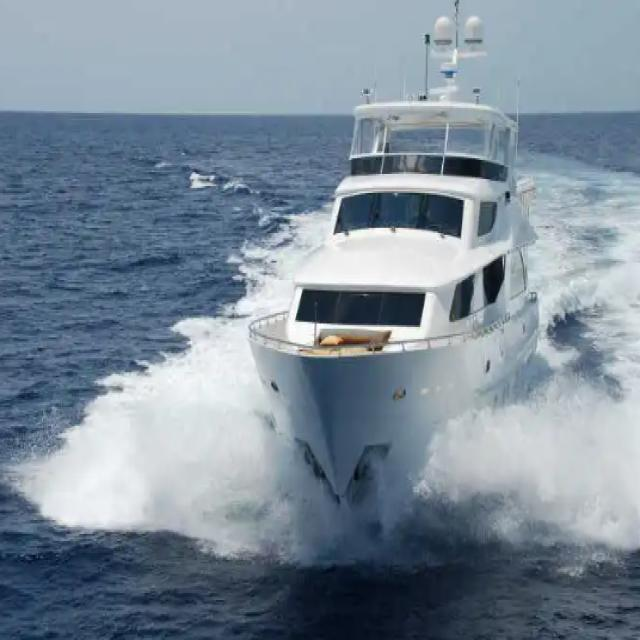houseboat: (234, 0, 550, 560)
